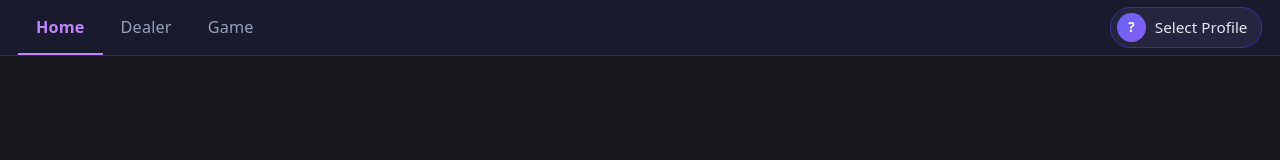
Scenario: NavBar › opens profile menu when button is clicked
This screenshot has width=1280, height=160.
Click the button with test id "profile-btn" at (1186, 28), box [1110,7,1262,48]
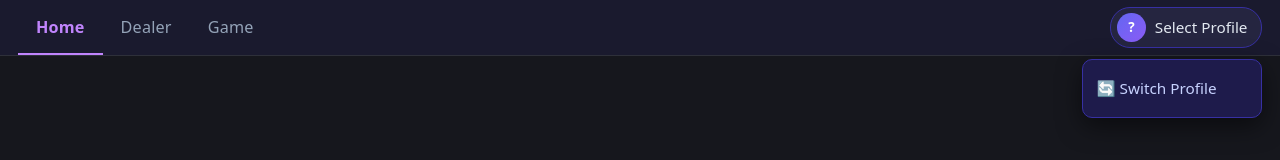
Expected: the element with test id "profile-menu" is shown, [1082,59,1262,118]
